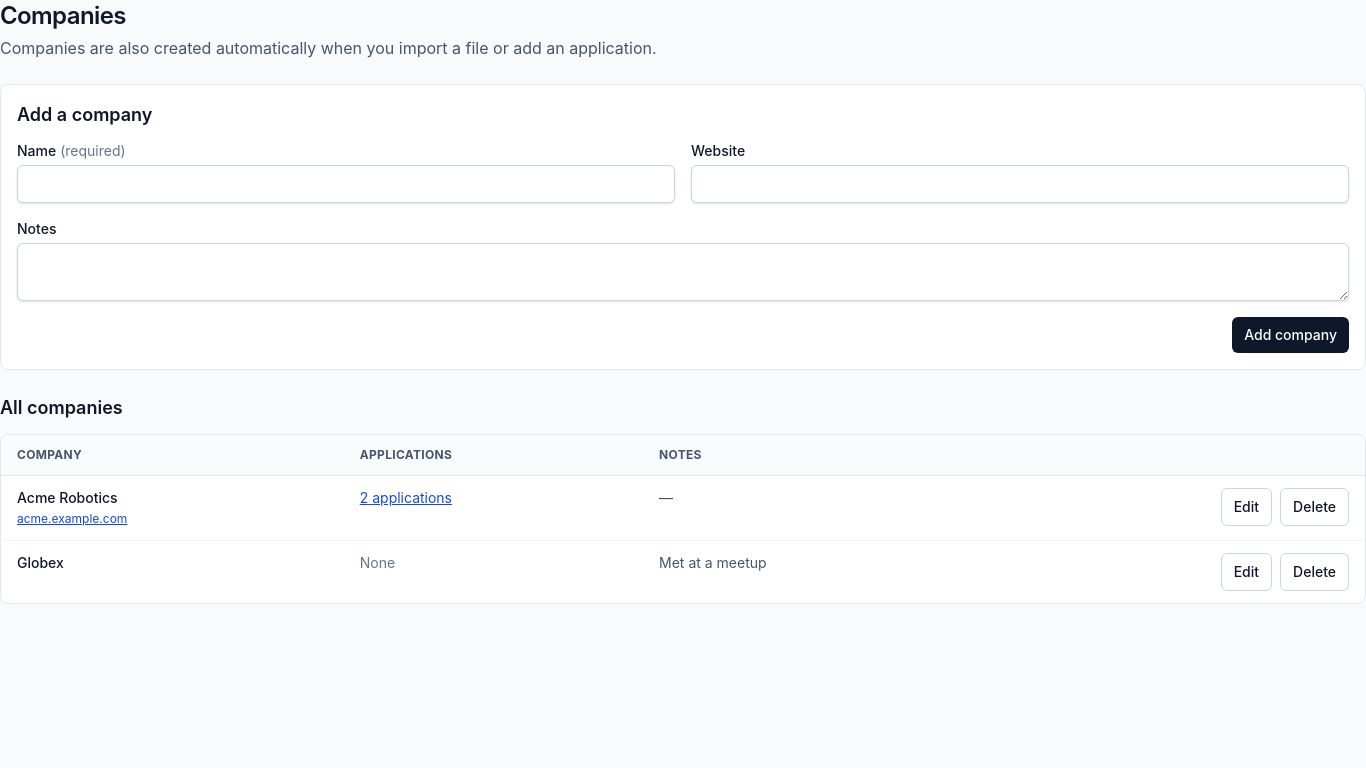
Scenario: CompaniesPage › edits a company in a dialog, sending only what changed
Click the button with aria-label "Edit Globex": [1246, 572] box [1221, 553, 1272, 591]
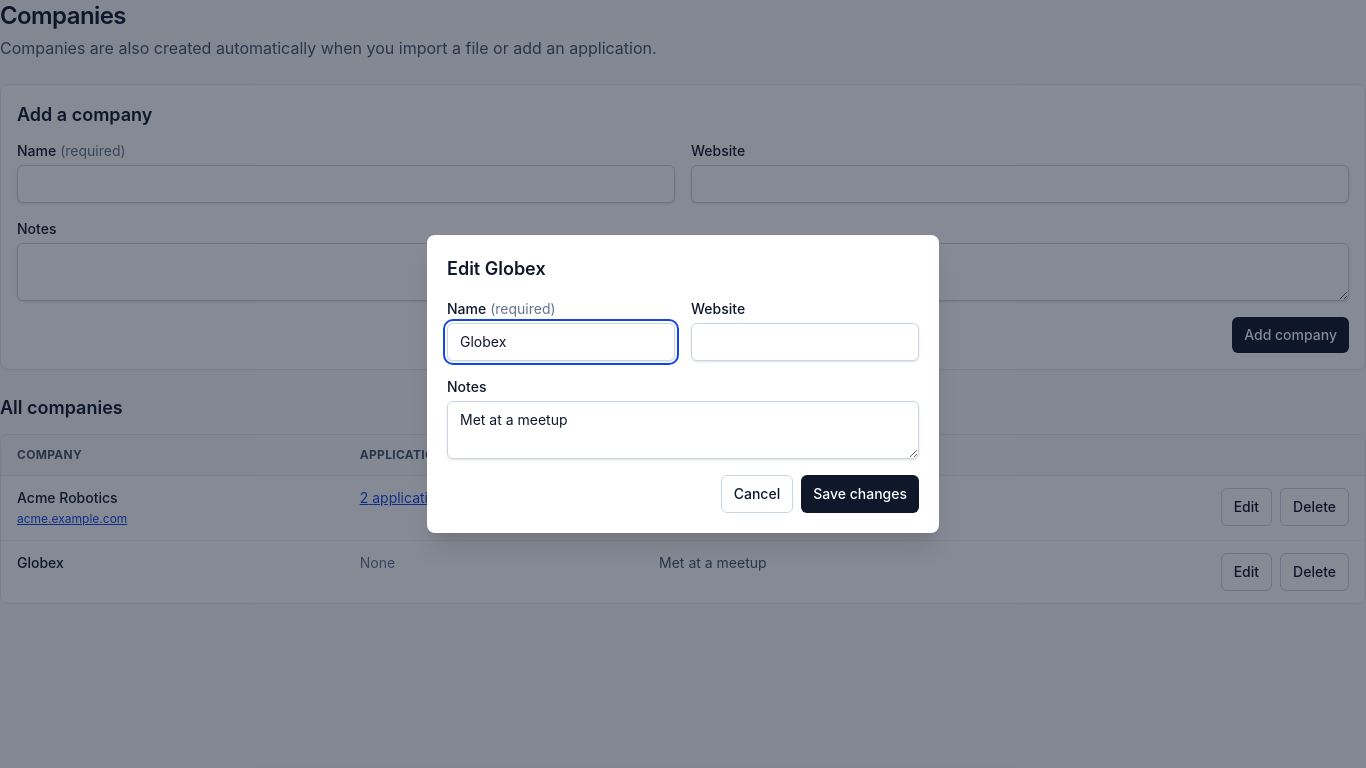
Replace the text in the text box labelled "Notes" with "Second interview soon": [683, 430] box [447, 401, 919, 459]
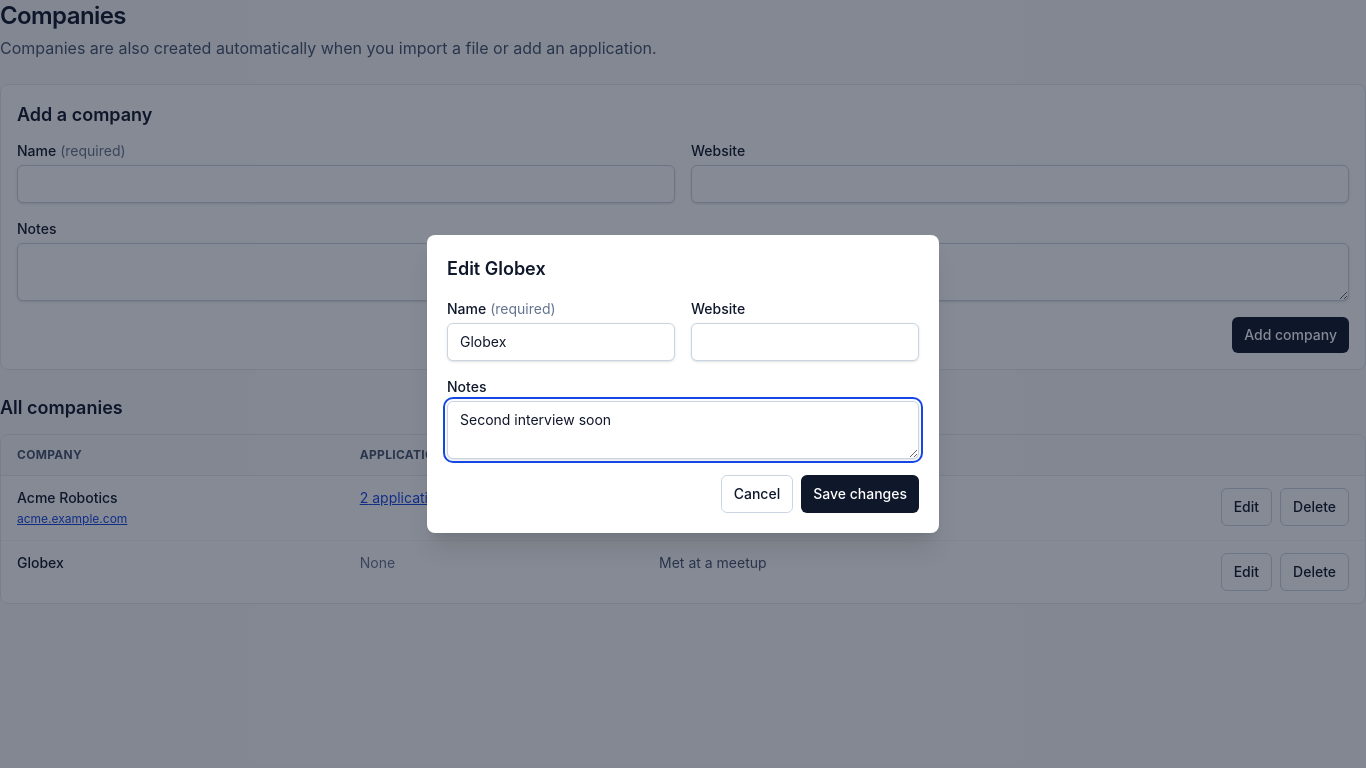
Click the button "Save changes": [860, 494] box [801, 475, 919, 513]
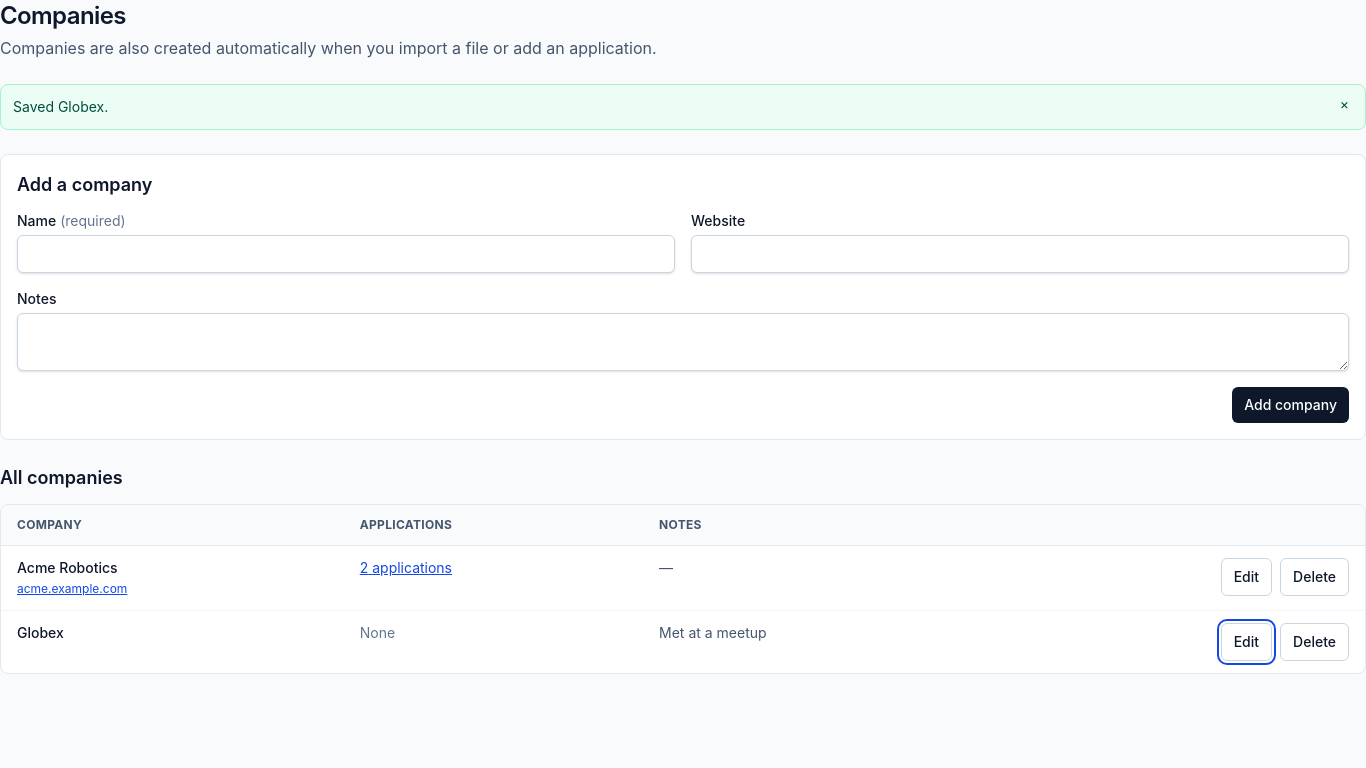
Check: the text "Saved Globex." is shown, box [13, 98, 108, 115]
Check: the dialog is gone
